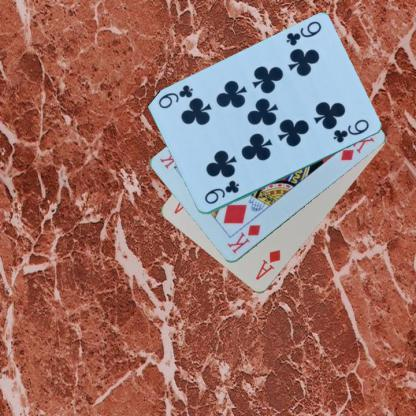9c: (283, 18, 323, 48), (202, 178, 240, 206)
Ad: (253, 248, 282, 282)
Kd: (224, 222, 262, 255)
